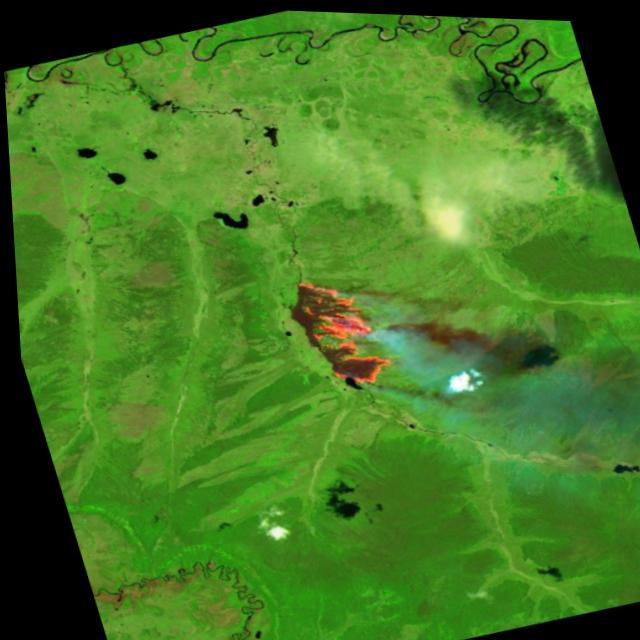fire: (278, 259, 397, 398)
